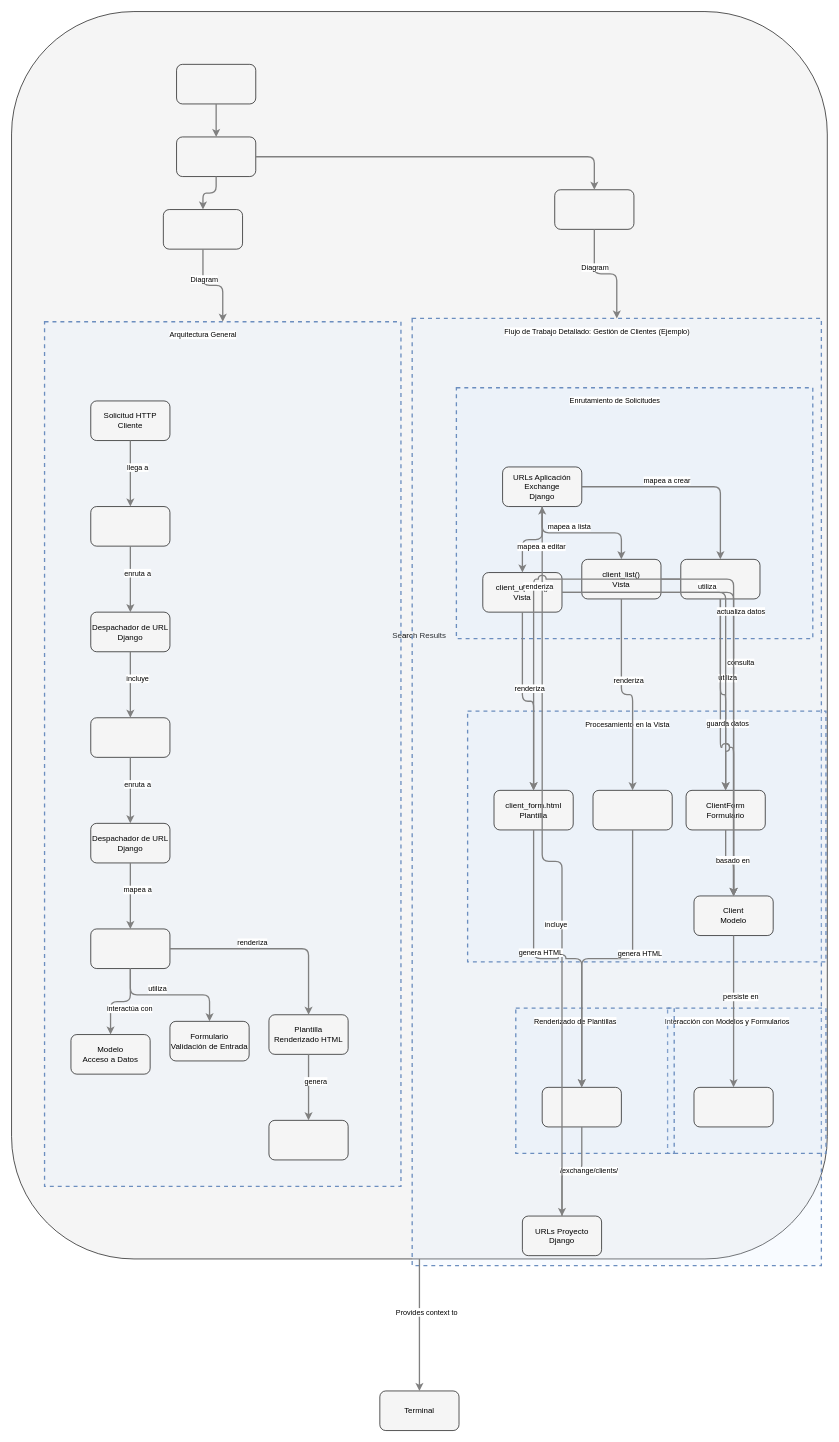
The diagram is 839 pixels wide and 1442 high, and some of its shapes have lost their labels. The shapes that lost their labels are listed below. From the top down, each one's centre as x and y in pixels, then its label:
the point at 130,526: Proyecto Django Configuración Global
the point at 720,579: client_create() Vista
the point at 130,737: Aplicación Django Lógica de Negocio
the point at 632,810: client_list.html Plantilla
the point at 130,948: Vista Procesamiento Lógico
the point at 581,1107: Solicitud Cliente HTTP
the point at 733,1107: Base de Datos Almacenamiento
the point at 308,1140: Respuesta HTTP Servidor
